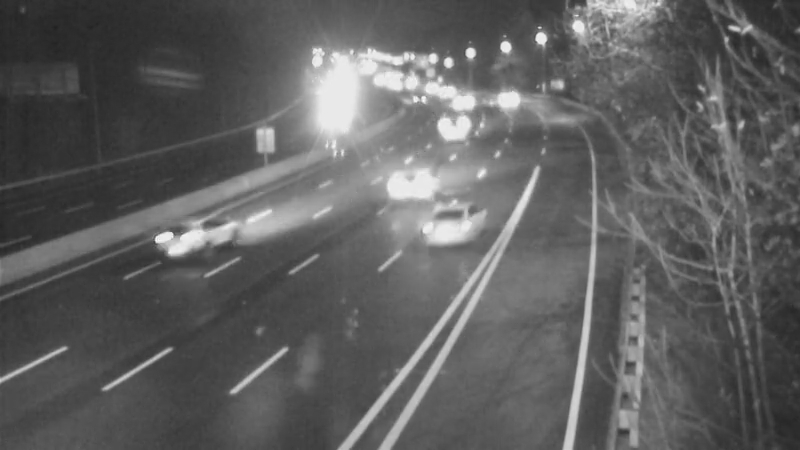vehicle: (367, 150, 447, 230), (407, 178, 487, 258), (160, 189, 240, 269), (421, 69, 471, 119), (392, 75, 442, 125), (478, 75, 528, 125), (439, 77, 489, 127), (426, 97, 476, 147)
